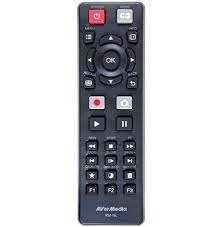remote control: (75, 0, 149, 227)
